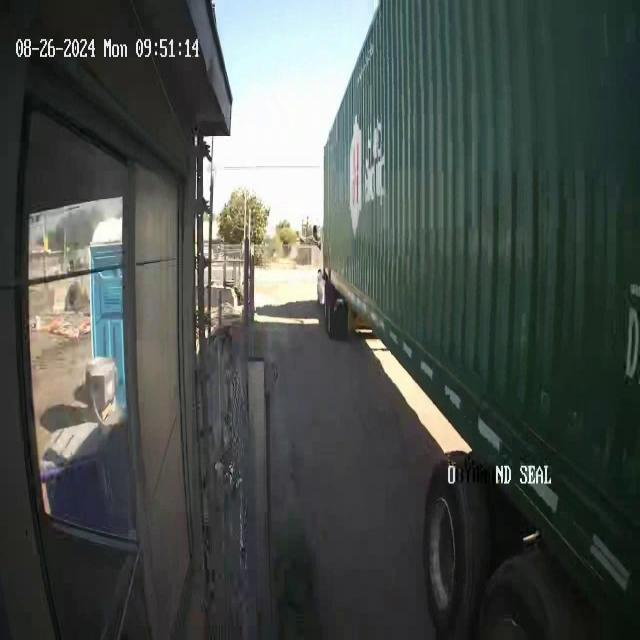CONTAINER: (320, 1, 640, 635)
